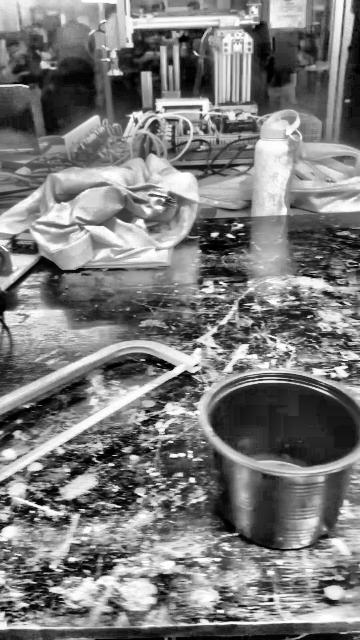pot: (203, 370, 360, 549)
